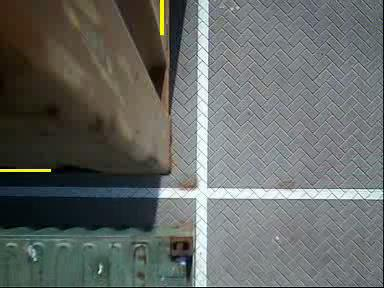groundmarker_2: (171, 157, 231, 190), (176, 20, 235, 53)
